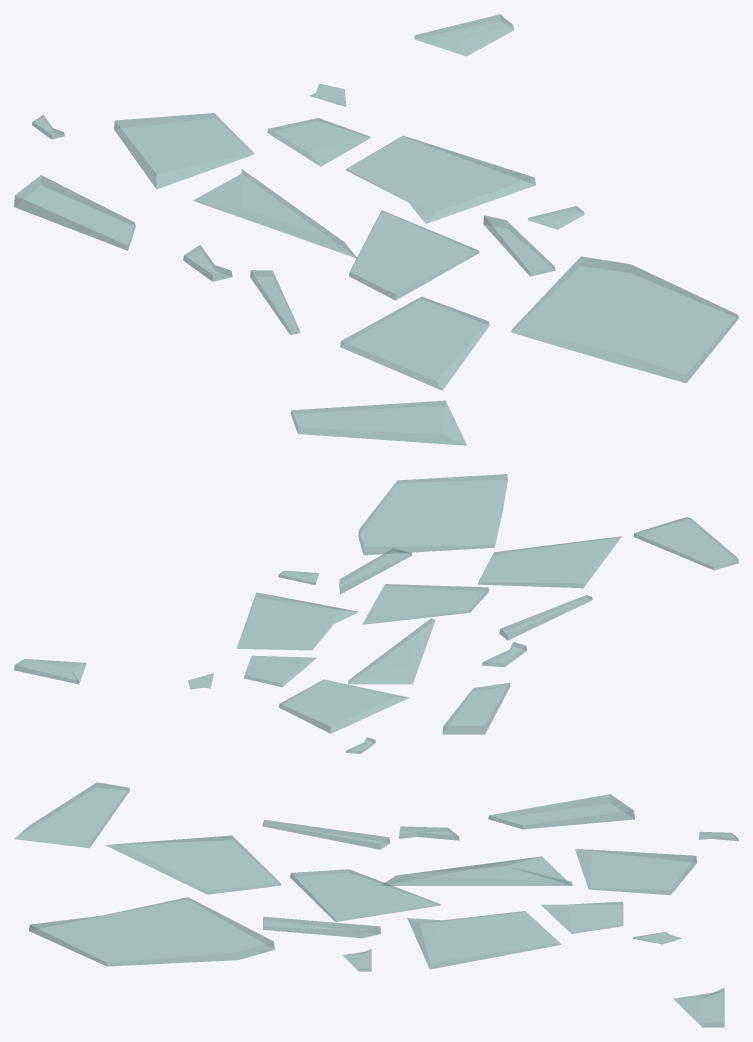
Rendered from SM_props_BrokenGlass.fbx.
3 renders of one model, top to bottom at view 1: azimuth 30°, elevation 25°; view 2: azimuth 150°, elevation 25°; view 3: azimuth 270°, elevation 25°, orthographic. The views are drawn at different scales.
Parts seen in each view (by area): view 1: SM_props_BrokenGlass; view 2: SM_props_BrokenGlass; view 3: SM_props_BrokenGlass.
Part boxes in pixels (box(x1,y1,x2,y2)): SM_props_BrokenGlass: box(14, 14, 738, 445); SM_props_BrokenGlass: box(14, 474, 738, 753); SM_props_BrokenGlass: box(14, 782, 738, 1027).
Bounding box in the file's own units: 63.98 × 1.4 × 83.37.
